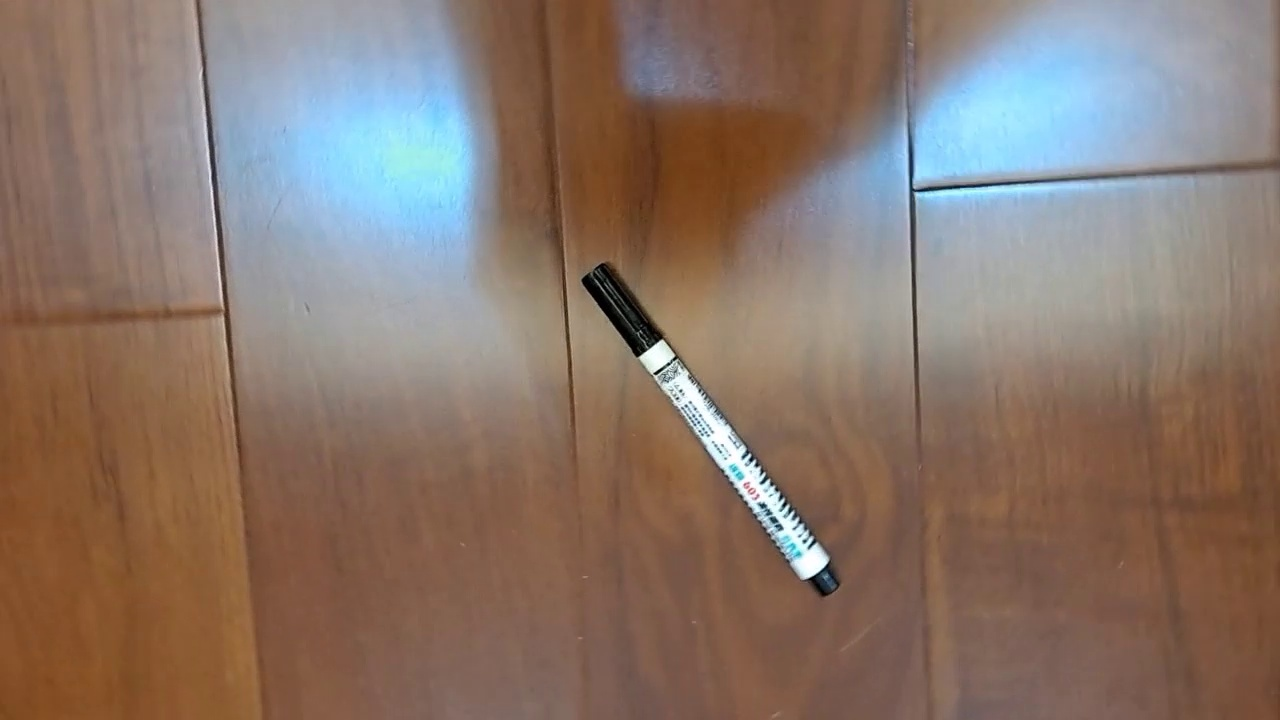pen: (579, 261, 842, 598)
